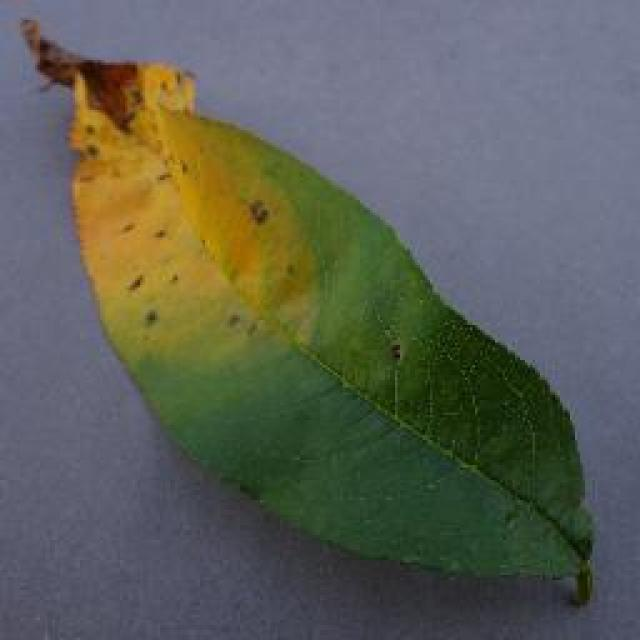Peach_Bacterial_Spot: (8, 14, 350, 378)
